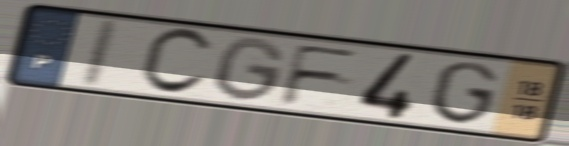4: (354, 50, 418, 121)
C: (136, 26, 217, 98)
F: (276, 42, 365, 107)
G: (212, 34, 289, 105), (426, 59, 502, 127)
I: (74, 16, 124, 91)
